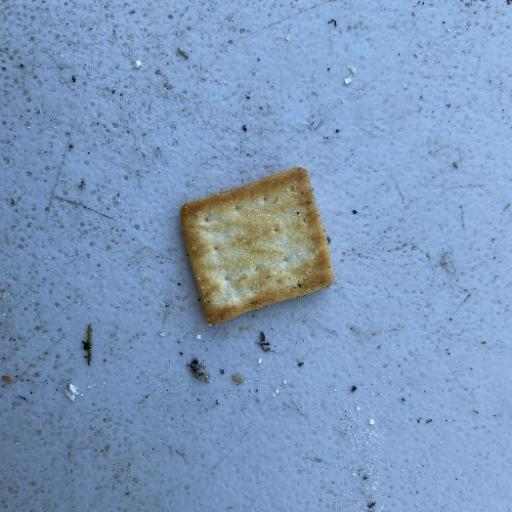Waste: (178, 165, 334, 326)
